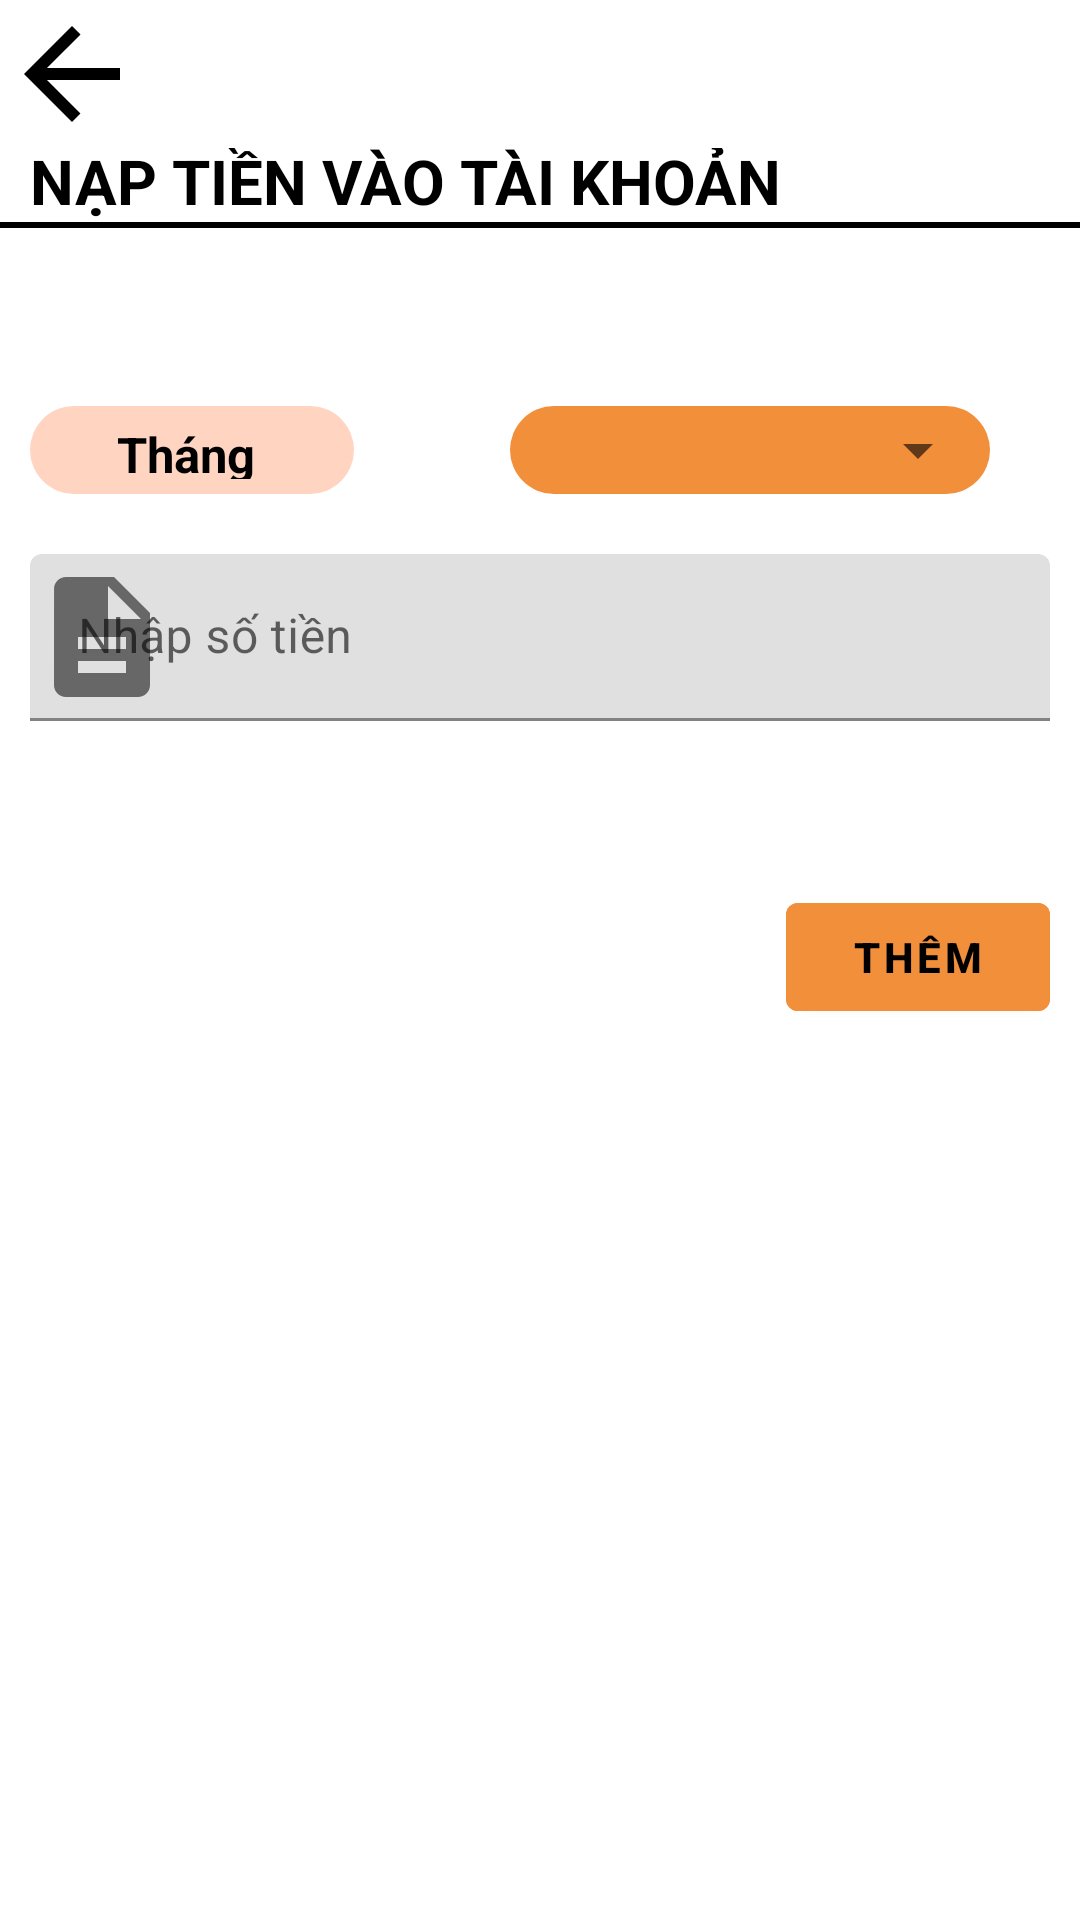

Screen size 1080px×1920px. Icon name, then its box in pixels as [x1=x1, y1=y1, x2=x2, y2=y2]:
arrow back: [x1=24, y1=26, x2=120, y2=122]
